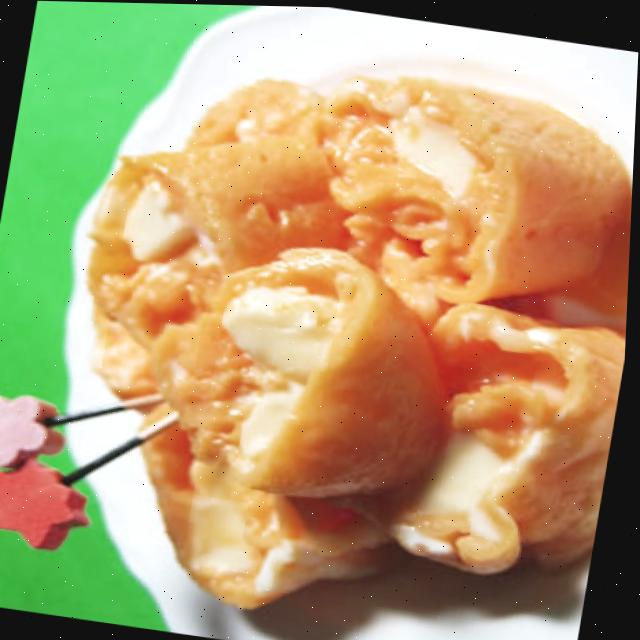鸡蛋料理: (19, 21, 639, 640)
